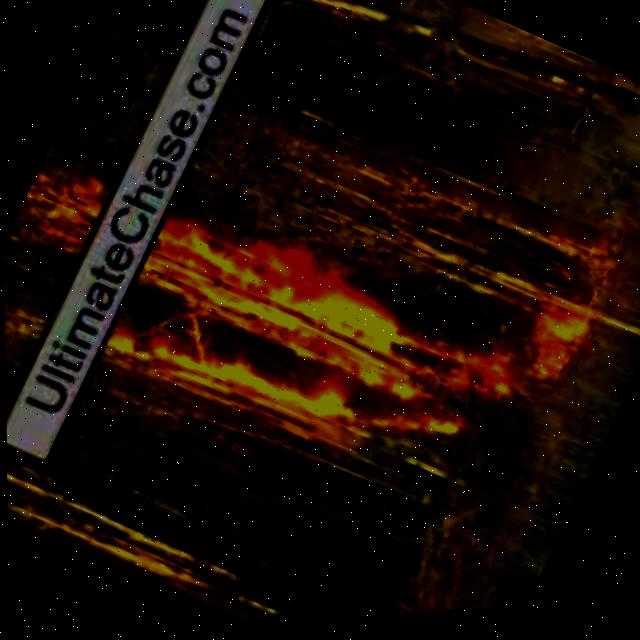Fire: (103, 161, 519, 515), (492, 303, 593, 434), (17, 159, 110, 247)
